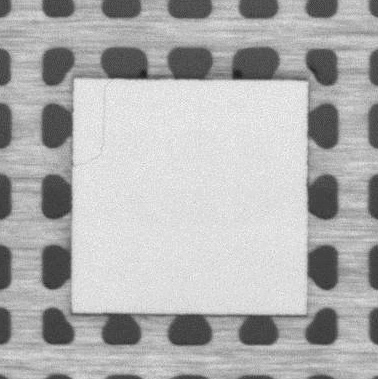DIE_CRACK: (73, 81, 114, 165)
